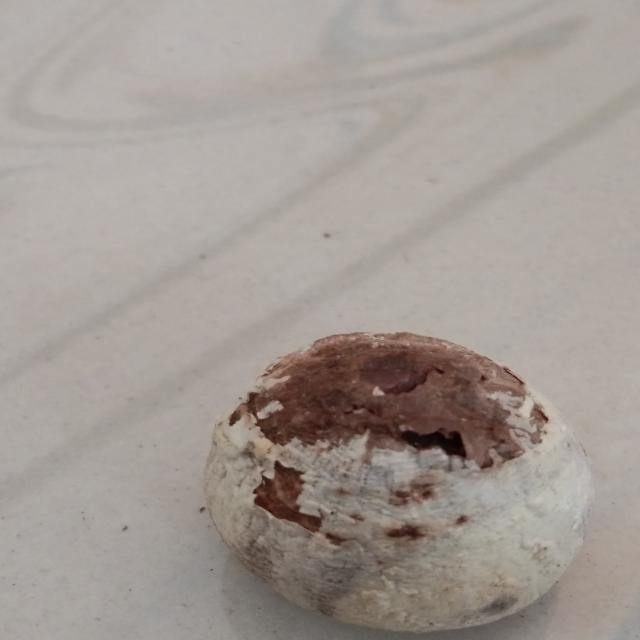karigot: (222, 324, 604, 640)
